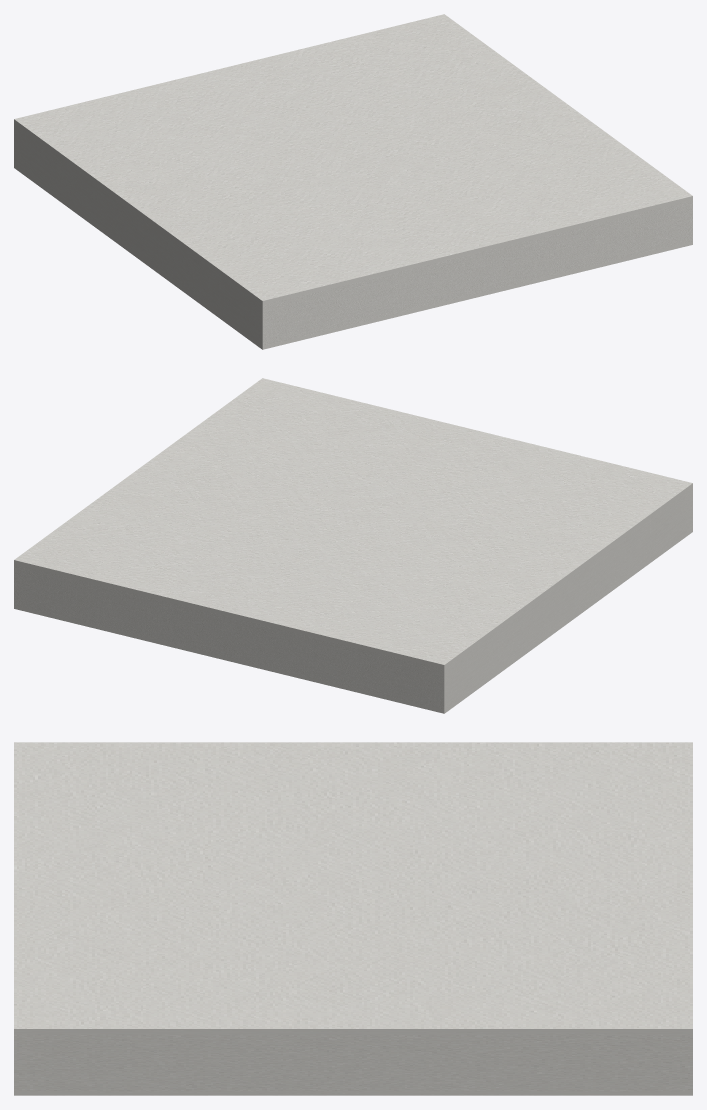
File: ceiling_diffuser_01.glb
3 views of the same model, one above another, from view 1: azimuth 30°, elevation 25°; view 2: azimuth 150°, elevation 25°; view 3: azimuth 270°, elevation 25° (orthographic). The views are drawn at different scales.
Visible parts, largest first — view 1: core_ceiling_diffuser_01; view 2: core_ceiling_diffuser_01; view 3: core_ceiling_diffuser_01.
Part boxes in pixels (left/top/right/bottom): core_ceiling_diffuser_01: left=14, top=14, right=692, bottom=349; core_ceiling_diffuser_01: left=14, top=378, right=692, bottom=713; core_ceiling_diffuser_01: left=14, top=742, right=692, bottom=1095.
Bounding box in the file's own units: 0.6 × 0.065 × 0.6.
2 materials, 2 textured.
